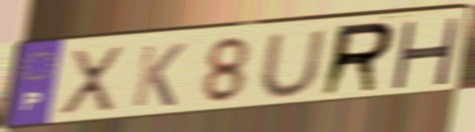8: (198, 35, 254, 106)
H: (388, 16, 463, 89)
K: (129, 41, 188, 110)
R: (316, 19, 400, 100)
U: (257, 26, 330, 100)
X: (55, 43, 127, 117)
